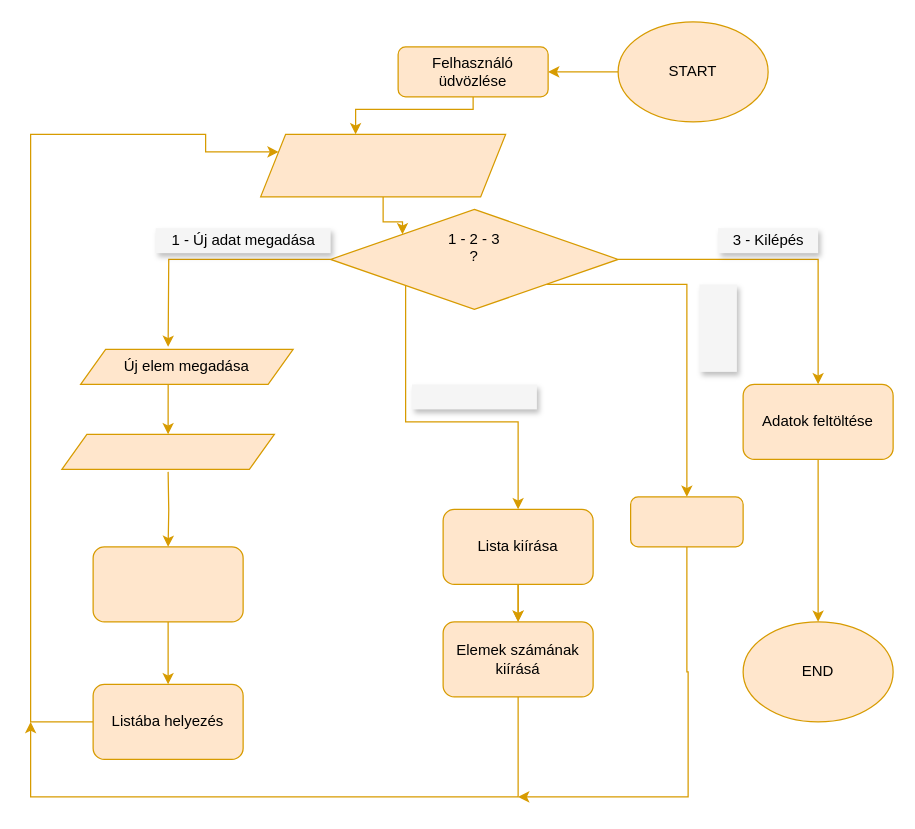
This 915x829 diagram has some shape labels left out. Here are the shapes that lost their labels. From the top down, the centre of each, then its label:
At [382,165]: "Adatbekérési szándék jelzése (Válasszon 1-2-3 közül)".
At [719,329]: "E gy é b".
At [475,398]: "2 - Lista kiírása".
At [167,451]: "Állapot megadása".
At [686,521]: "Ismeretlen opció".
At [167,584]: "Elem és állapot összefűzése".
